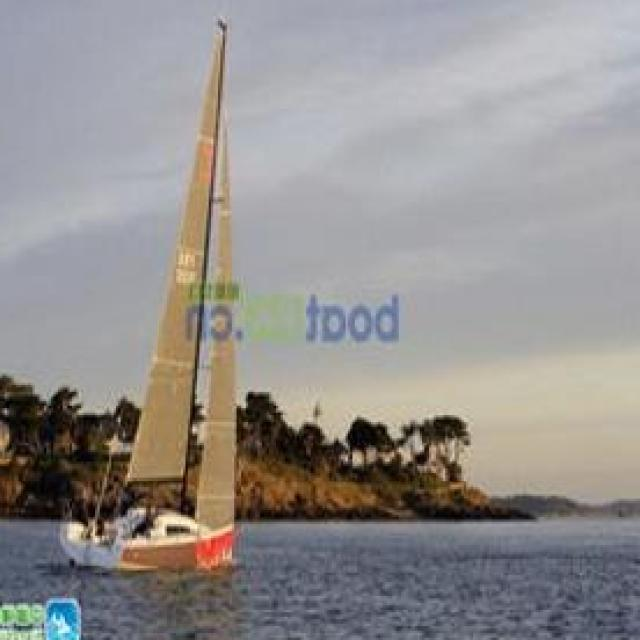sailboat: (36, 32, 272, 580)
